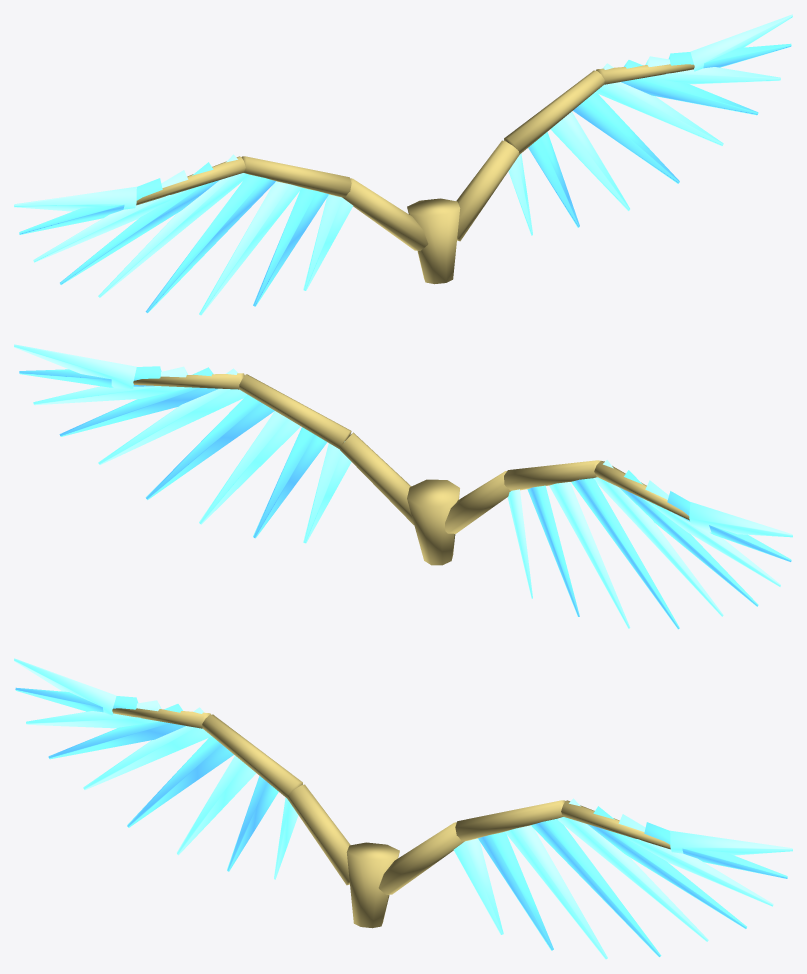
File: crystal_wings_detailed.glb
The picture shows the model from 3 angles, top to bottom: view 1: azimuth 30°, elevation 25°; view 2: azimuth 150°, elevation 25°; view 3: azimuth 330°, elevation 25°; orthographic projection.
Parts seen in each view (by area): view 1: WingCenterClasp, CrystalFeather_-1_3, CrystalFeather_-1_2, CrystalFeather_-1_4, WingFrame1_1, WingFrame2_1, WingFrame1_-1, CrystalFeather_-1_5, WingFrame2_-1, CrystalFeather_1_3, CrystalFeather_-1_1, CrystalFeather_1_4 (+13 smaller); view 2: WingCenterClasp, CrystalFeather_1_3, CrystalFeather_1_4, WingFrame2_1, CrystalFeather_1_2, CrystalFeather_-1_3, WingFrame1_1, CrystalFeather_1_5, CrystalFeather_-1_4, CrystalFeather_1_1, CrystalFeather_-1_2, CrystalFeather_1_8 (+13 smaller); view 3: WingCenterClasp, CrystalFeather_1_3, CrystalFeather_1_2, CrystalFeather_1_4, WingFrame1_-1, WingFrame2_-1, WingFrame1_1, CrystalFeather_1_5, WingFrame2_1, CrystalFeather_-1_3, CrystalFeather_1_1, CrystalFeather_-1_4 (+13 smaller).
Part boxes in pixels (x1,y1,x2,y2): WingCenterClasp: (407,198,460,284); CrystalFeather_-1_3: (145,175,275,313); CrystalFeather_-1_2: (199,181,301,315); CrystalFeather_-1_4: (98,154,249,297); WingFrame1_1: (456,140,519,241); WingFrame2_1: (504,70,604,154); WingFrame1_-1: (342,178,428,250); CrystalFeather_-1_5: (60,162,219,284); WingFrame2_-1: (241,156,351,197); CrystalFeather_1_3: (573,92,679,183); CrystalFeather_-1_1: (253,188,328,306); CrystalFeather_1_4: (595,63,723,145); WingCenterClasp: (407,479,459,565); CrystalFeather_1_3: (145,395,274,499); CrystalFeather_1_4: (98,368,247,464); WingFrame2_1: (239,374,351,448); CrystalFeather_1_2: (199,411,300,524); CrystalFeather_-1_3: (571,478,679,629); WingFrame1_1: (338,432,413,524); CrystalFeather_1_5: (59,367,217,436); CrystalFeather_-1_4: (594,460,723,616); CrystalFeather_1_1: (253,427,327,538); CrystalFeather_-1_2: (549,482,630,628); CrystalFeather_1_8: (14,344,136,388); WingCenterClasp: (346,842,399,928); CrystalFeather_1_3: (531,819,661,957); CrystalFeather_1_2: (505,825,607,959); CrystalFeather_1_4: (557,798,708,941); WingFrame1_-1: (287,784,350,885); WingFrame2_-1: (202,714,302,798); WingFrame1_1: (378,822,464,894); CrystalFeather_1_5: (587,806,746,928); WingFrame2_1: (455,800,565,841); CrystalFeather_-1_3: (127,736,233,827); CrystalFeather_1_1: (478,832,553,950); CrystalFeather_-1_4: (83,707,211,789).
Bounding box in the file's own units: 3.58 × 0.7083 × 0.3509.
